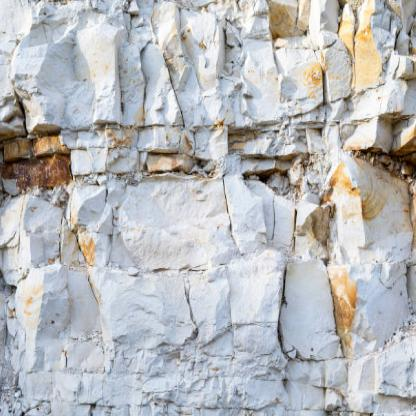Sedimentary_Limestone: (327, 156, 409, 346), (347, 4, 397, 100), (228, 181, 286, 255)
